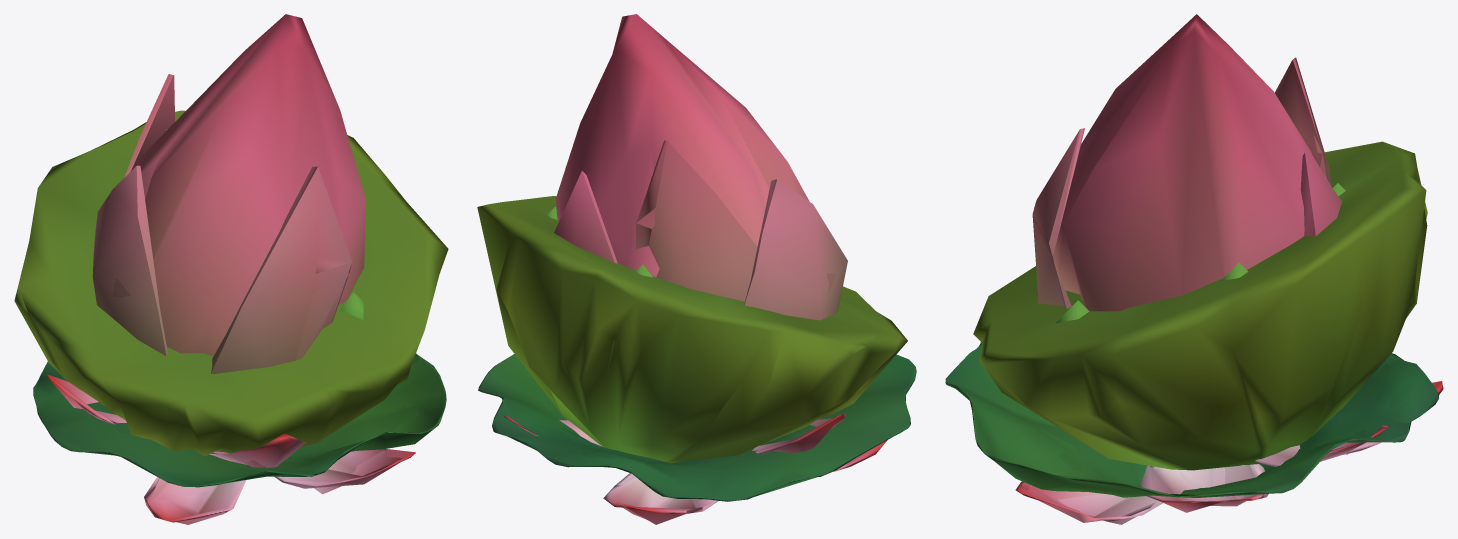
The model's file is sen-ho.glb.
3 renders of one model, left to right at view 1: azimuth 30°, elevation 25°; view 2: azimuth 150°, elevation 25°; view 3: azimuth 270°, elevation 25°, orthographic. The views are drawn at different scales.
Visible parts, largest first — view 1: nu, dai, la, hoa; view 2: dai, nu, la, hoa; view 3: dai, nu, la, hoa.
Part boxes in pixels (x1=…): nu: x1=92, y1=14, x2=365, y2=373; dai: x1=14, y1=110, x2=448, y2=455; la: x1=33, y1=353, x2=446, y2=487; hoa: x1=46, y1=374, x2=415, y2=524; dai: x1=477, y1=196, x2=907, y2=463; nu: x1=554, y1=14, x2=847, y2=320; la: x1=478, y1=354, x2=916, y2=501; hoa: x1=504, y1=413, x2=887, y2=524; dai: x1=973, y1=141, x2=1427, y2=470; nu: x1=1032, y1=14, x2=1342, y2=311; la: x1=945, y1=342, x2=1438, y2=497; hoa: x1=1015, y1=381, x2=1443, y2=524.
Size of the model in its own units: 0.9451 by 1.09 by 0.9676.
